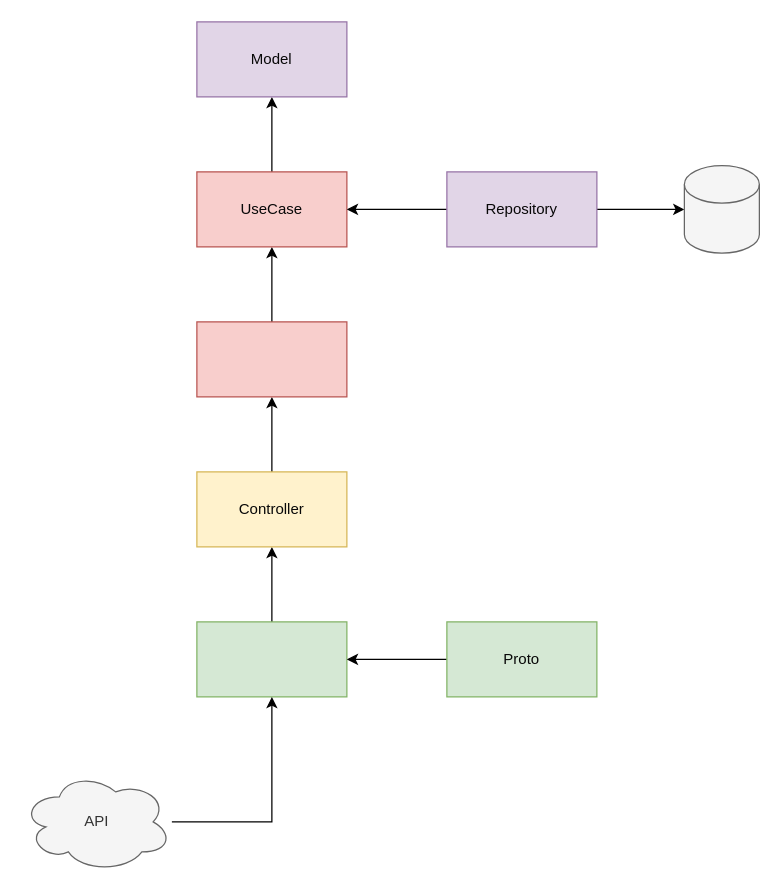
The diagram is 781 pixels wide and 894 high, and some of its shapes have lost their labels. Here are the shapes that lost their labels. From the top down, the centre of each, then its label:
point (721, 208): Prisma
point (271, 359): Service
point (271, 659): gRPC
